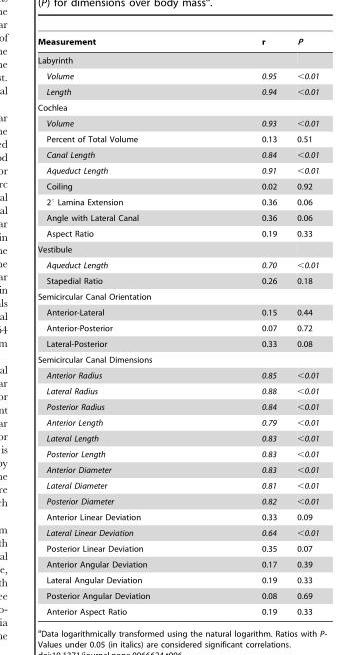table: (37, 37, 318, 615)
table column: (37, 37, 206, 615), (206, 37, 286, 615), (286, 37, 318, 615)
table column header: (37, 37, 318, 50)
table projected row header: (37, 50, 318, 68), (37, 99, 318, 115), (37, 241, 318, 257), (37, 288, 318, 304), (37, 351, 318, 367)
table row: (37, 50, 318, 68), (37, 193, 318, 210), (37, 83, 318, 99), (37, 99, 318, 115), (37, 115, 318, 131), (37, 146, 318, 162), (37, 162, 318, 178), (37, 225, 318, 241), (37, 241, 318, 257), (37, 272, 318, 288), (37, 288, 318, 304), (37, 304, 318, 320), (37, 335, 318, 351), (37, 351, 318, 367), (37, 367, 318, 383), (37, 398, 318, 414), (37, 414, 318, 430), (37, 430, 318, 446), (37, 461, 318, 477), (37, 477, 318, 493), (37, 493, 318, 509), (37, 524, 318, 540), (37, 540, 318, 556), (37, 556, 318, 572), (37, 587, 318, 603), (37, 68, 318, 83), (37, 131, 318, 146), (37, 178, 318, 193), (37, 210, 318, 225), (37, 257, 318, 272), (37, 320, 318, 335), (37, 383, 318, 398), (37, 446, 318, 461), (37, 509, 318, 524), (37, 572, 318, 587), (37, 37, 318, 50), (37, 603, 318, 615)
